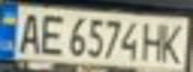4: (118, 18, 142, 61)
5: (84, 16, 106, 58)
6: (63, 14, 87, 57)
7: (103, 17, 124, 60)
A: (12, 9, 45, 54)
E: (36, 10, 66, 56)
H: (139, 19, 169, 63)
K: (157, 19, 190, 65)
